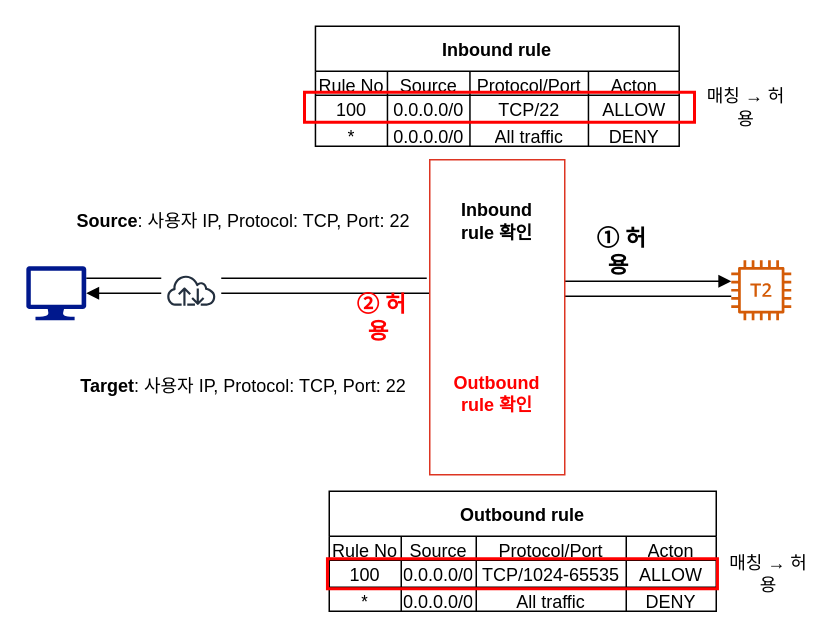
Image size: 840x638. Some labels were removed from this diagram. Each missing label, with the box of its shape:
Internet: (160, 259, 221, 320)
Network ACL: (428, 158, 565, 475)
